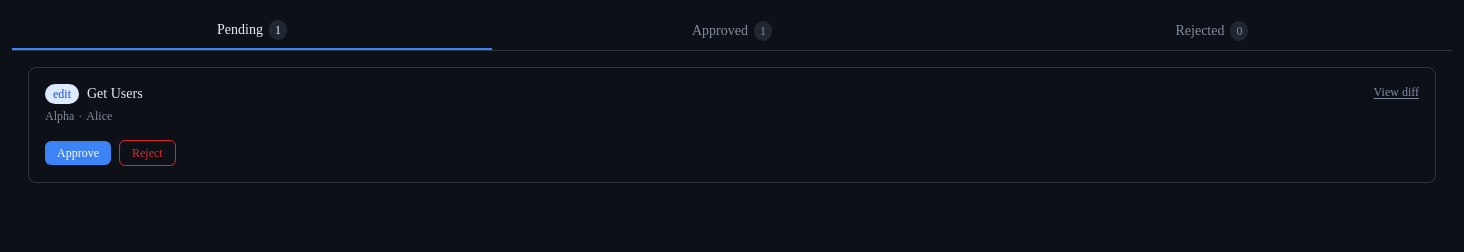
SuggestionPanel — empty state › shows "No rejected suggestions" on empty rejected tab
This screenshot has width=1464, height=252.
Click the tab "rejected 0": (1212, 31) left=972, top=12, right=1452, bottom=50
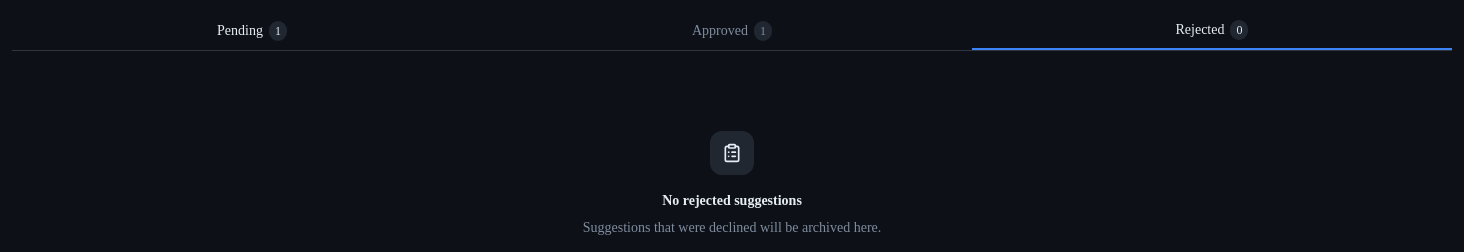
Result: the heading "No rejected suggestions" is shown at left=662, top=191, right=802, bottom=211
